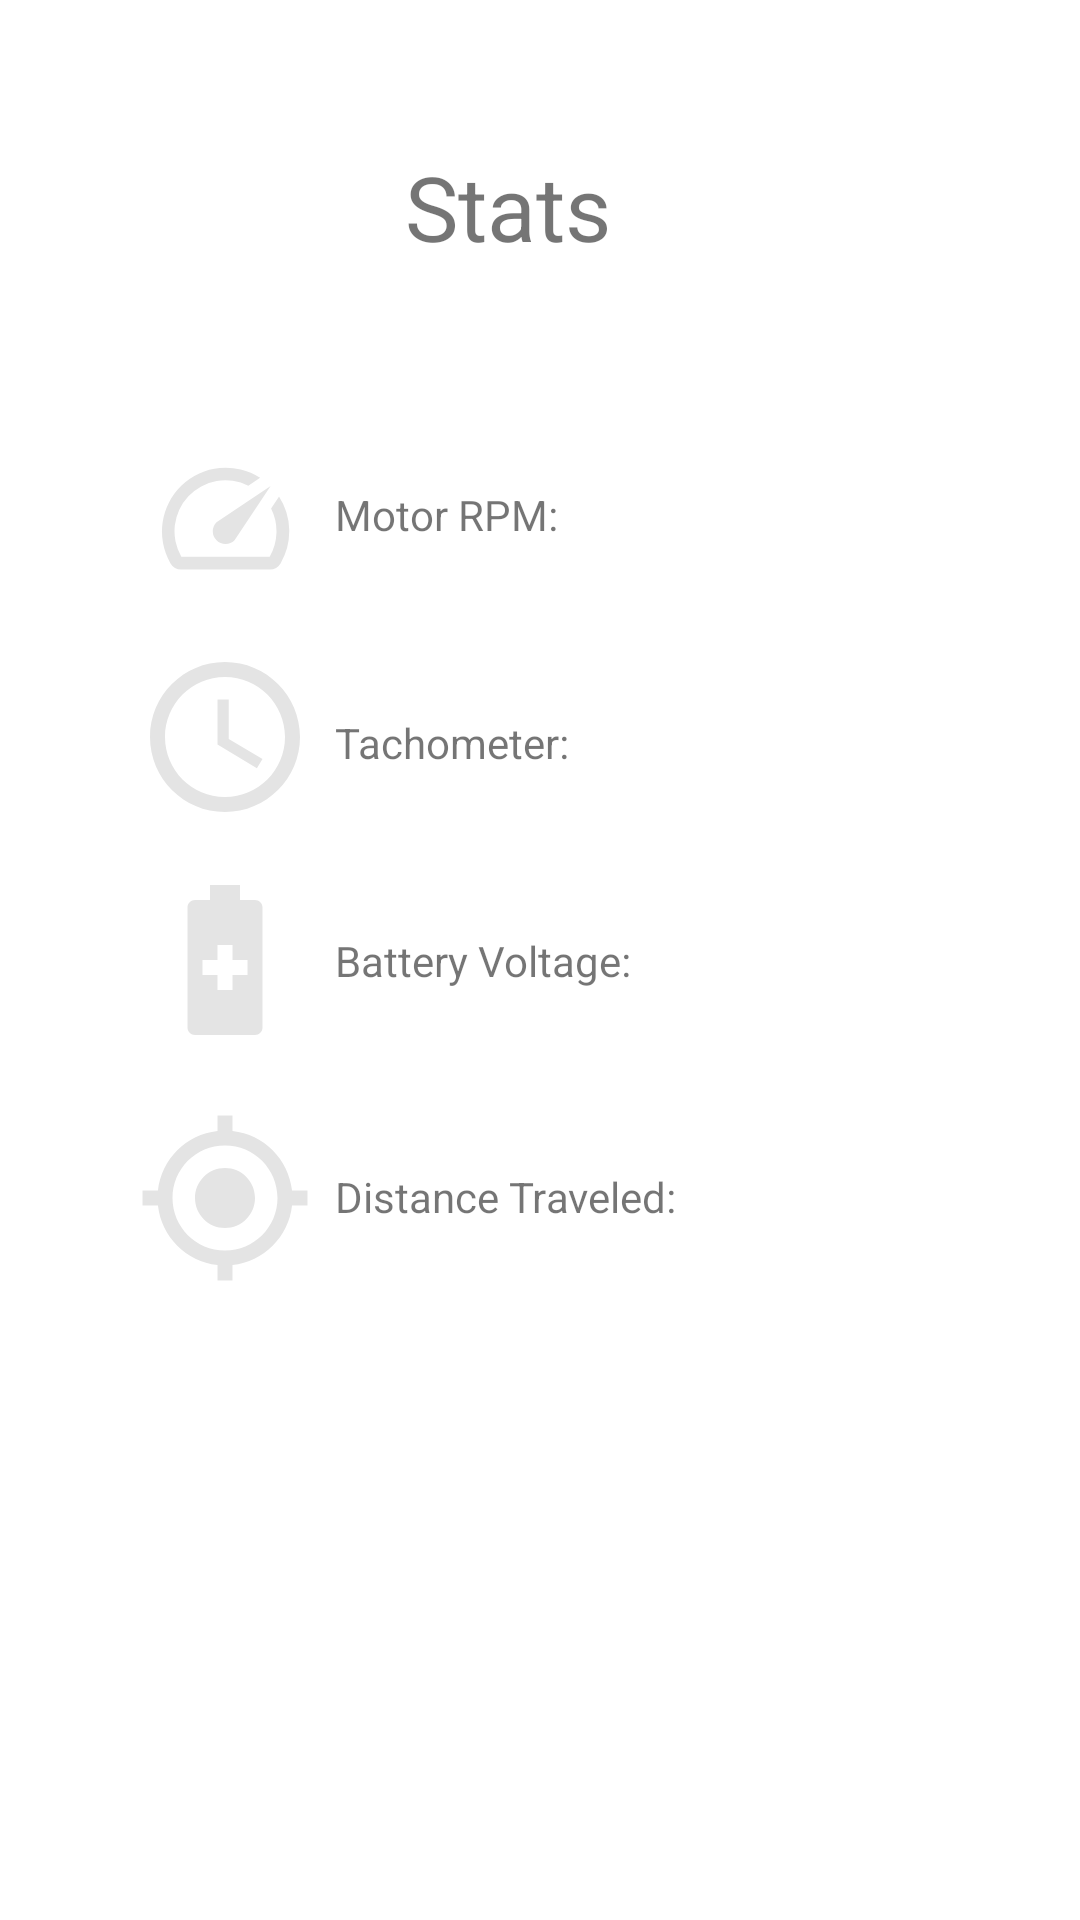

Icon click points for this 1080w x 1920h phone screenshot, format point (x, y):
batterylevel: point (225, 960)
speed: point (225, 518)
